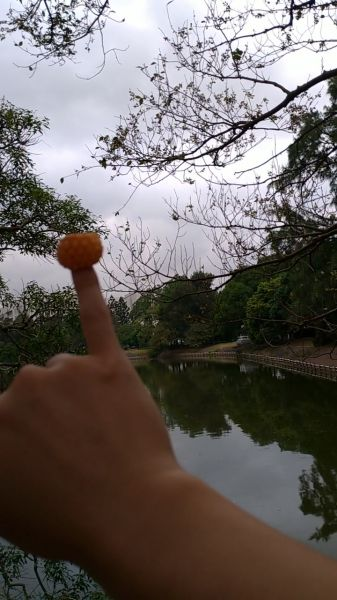eggs: (57, 231, 103, 271)
